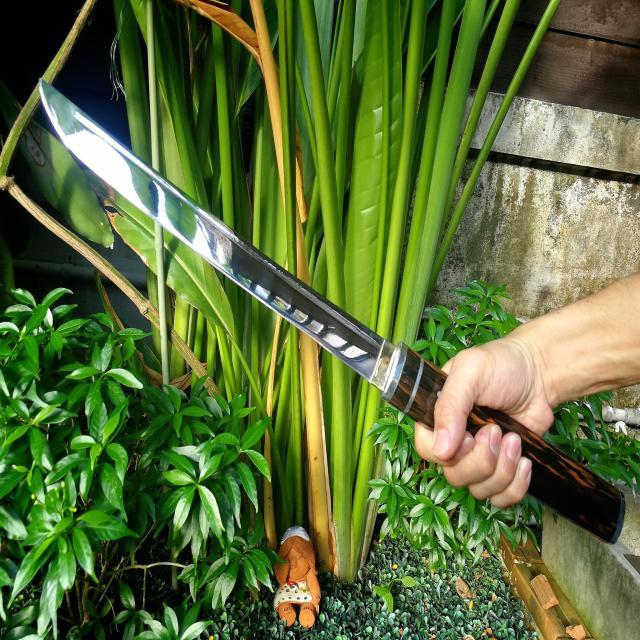short sword: (32, 69, 630, 551)
